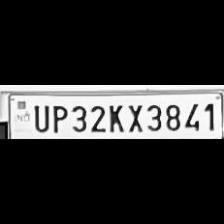1: (200, 98, 216, 130)
2: (87, 100, 105, 132)
3: (68, 100, 88, 132), (144, 99, 162, 130)
4: (182, 99, 200, 131)
8: (162, 99, 180, 130)
K: (104, 100, 124, 132)
P: (48, 100, 68, 132)
U: (29, 100, 48, 132)
X: (124, 100, 144, 132)
